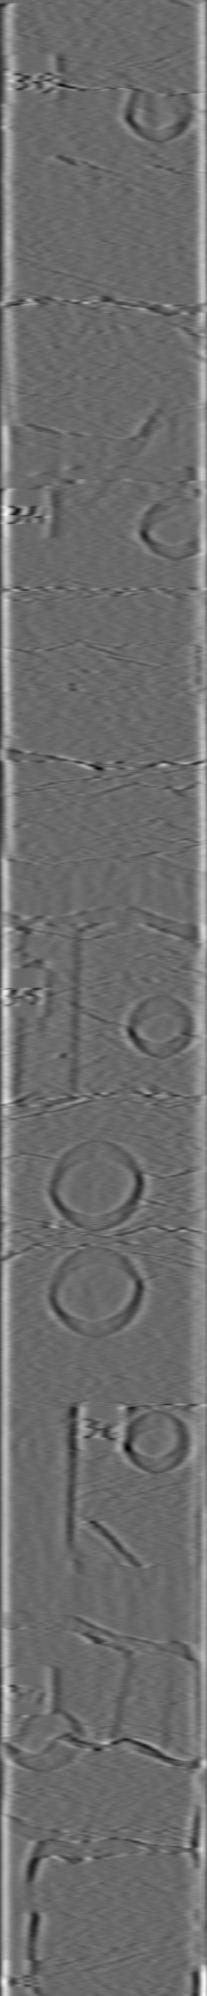hplug: (122, 990, 199, 1063), (6, 1708, 88, 1776), (119, 1407, 196, 1477), (116, 81, 196, 145), (136, 490, 204, 563)
scal: (44, 1135, 149, 1235), (44, 1241, 149, 1340)
vplug: (93, 1647, 173, 1841), (11, 929, 93, 1114)
